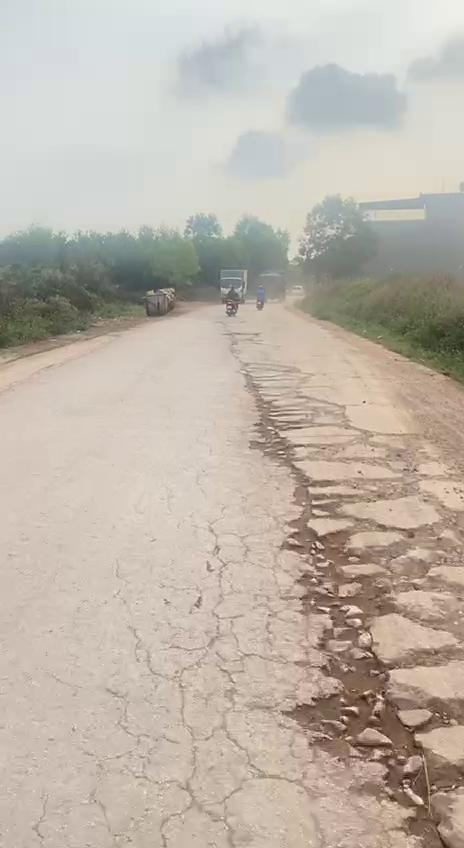pothole: (275, 548, 464, 848), (243, 390, 452, 554)
